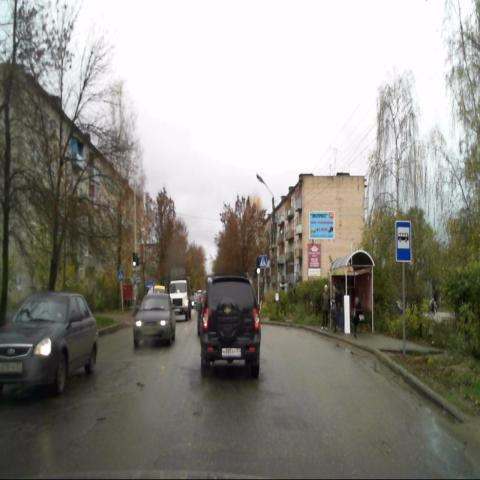5_16: (395, 221, 411, 262)
5_19_1: (258, 254, 267, 268), (117, 269, 124, 282)
